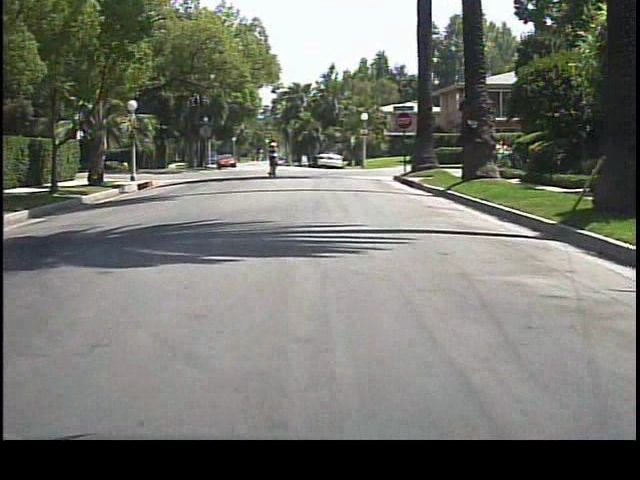person: (265, 136, 283, 176)
